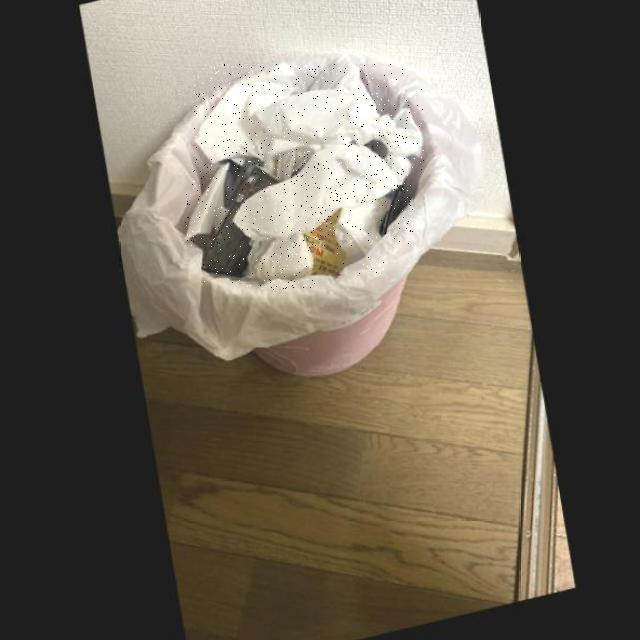paper: (194, 65, 424, 171), (233, 151, 413, 247), (202, 171, 280, 283), (336, 203, 392, 274), (243, 239, 315, 290), (184, 168, 230, 246)
